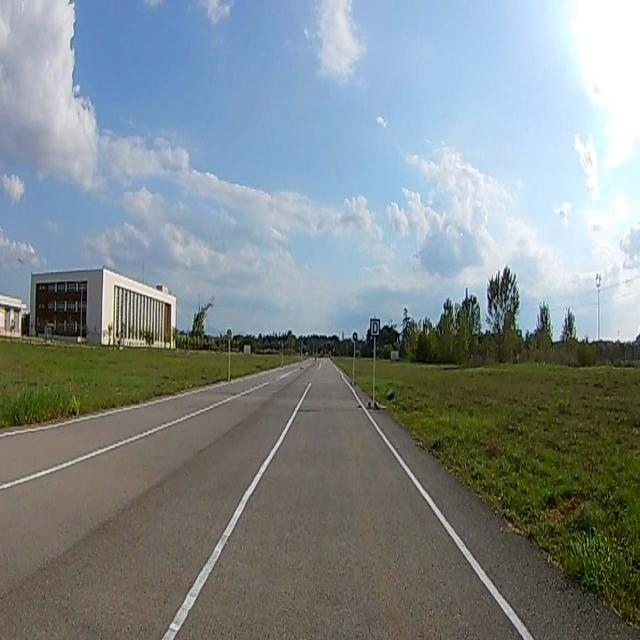durak: (371, 320, 379, 334)
